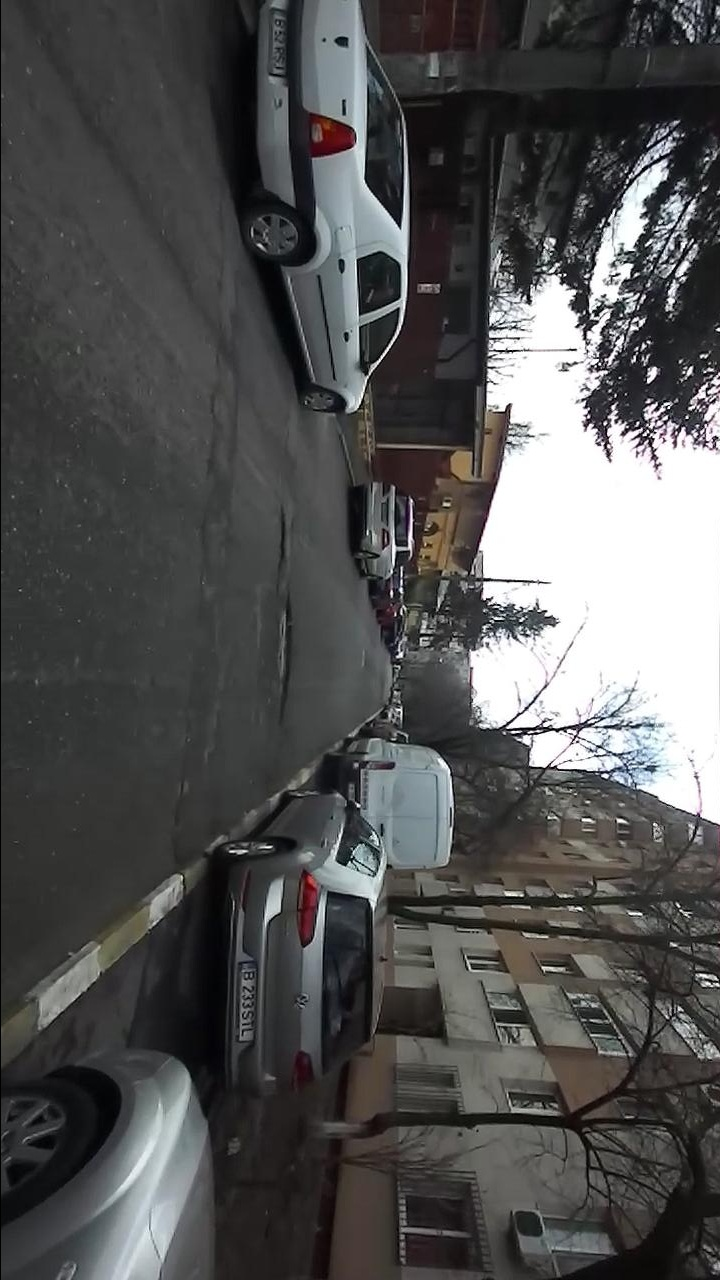pothole: (273, 589, 297, 730), (163, 769, 188, 854), (276, 503, 292, 576)
